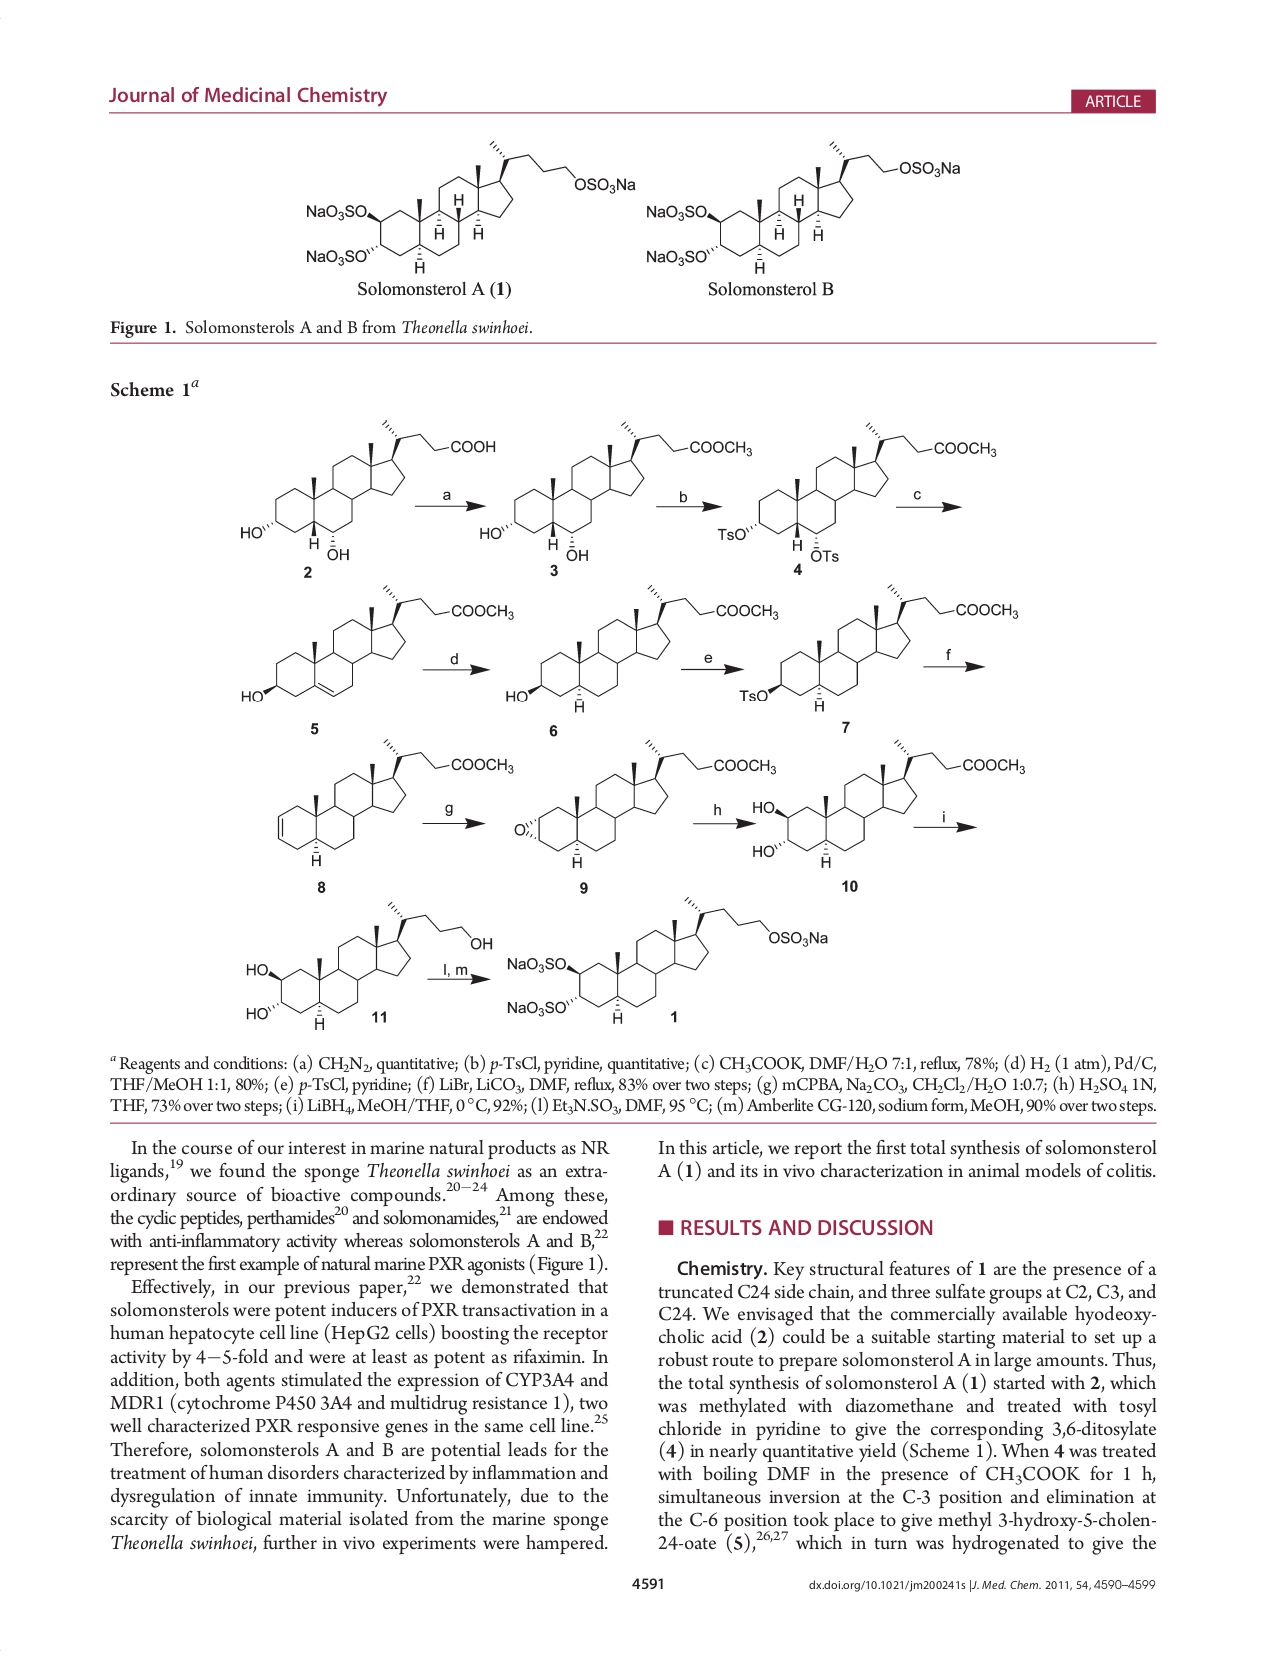exist_molecular: (301, 137, 638, 274), (505, 894, 831, 1027), (645, 140, 964, 275), (715, 419, 1000, 567), (479, 418, 753, 564), (237, 418, 496, 563), (737, 582, 1021, 714), (751, 735, 1029, 870), (501, 582, 781, 714), (239, 896, 499, 1032), (513, 737, 777, 870), (239, 582, 515, 706), (273, 735, 515, 866)
